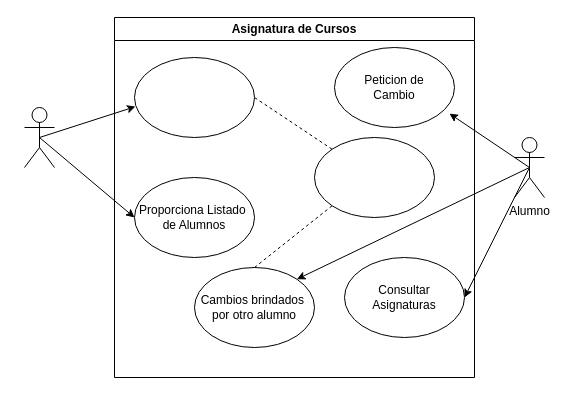
This 567x395 diagram has some shape labels left out. Each missing label, with the box of its shape:
Asignatura Disponible: (314, 136, 434, 218)
Dar de Atta una Asignatura: (134, 56, 254, 138)
Profesor: (24, 106, 54, 168)
